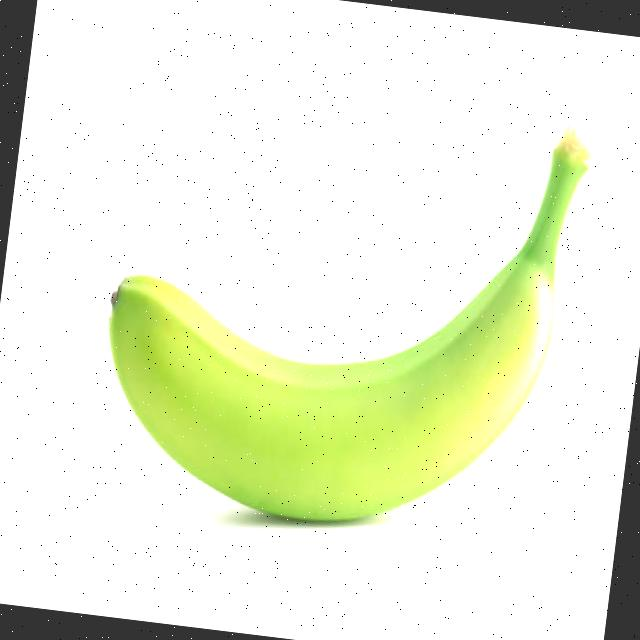banana: (87, 71, 594, 552)
